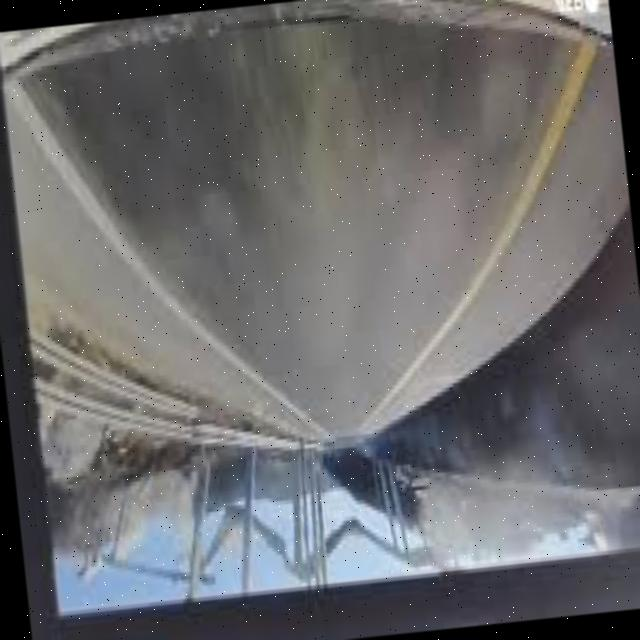bridge collapse: (91, 392, 456, 619)
